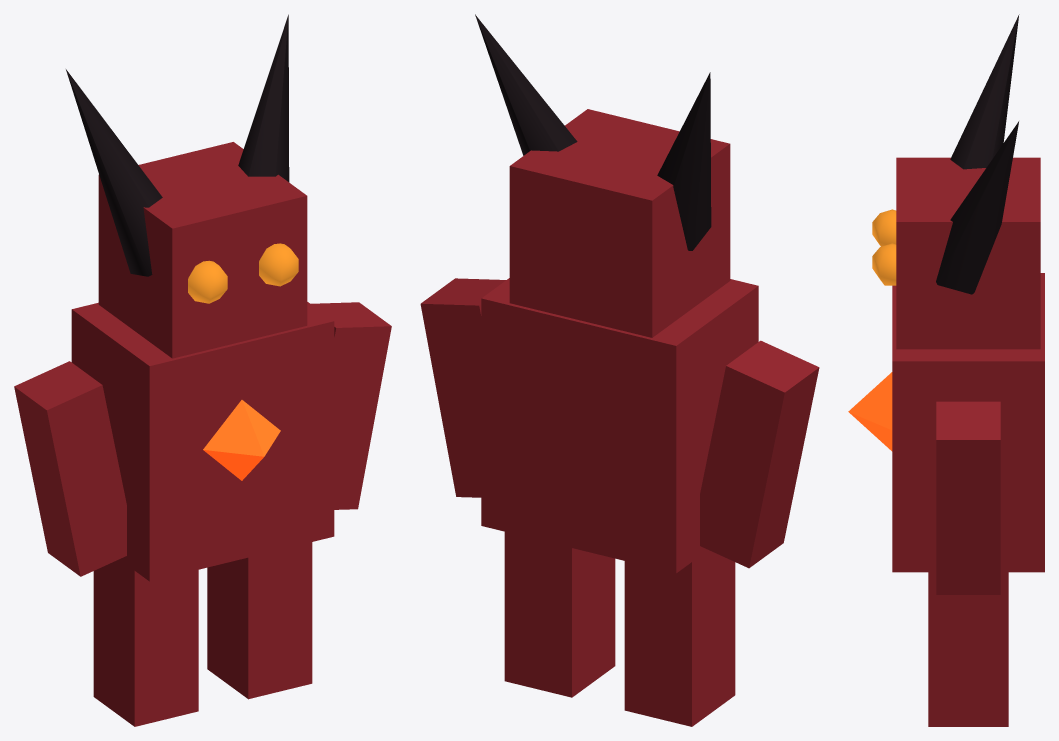
File: demon.glb
3 renders of one model, left to right at view 1: azimuth 30°, elevation 25°; view 2: azimuth 150°, elevation 25°; view 3: azimuth 270°, elevation 25°, orthographic. The views are drawn at different scales.
Parts seen in each view (by area): view 1: enemy_demon; view 2: enemy_demon; view 3: enemy_demon.
Boxes of the visible parts, box(x1,y1,x2,y2) form: enemy_demon: box(14, 14, 391, 726); enemy_demon: box(420, 14, 819, 726); enemy_demon: box(848, 14, 1044, 726).
Bounding box in the file's own units: 0.9722 × 1.7 × 0.49.
